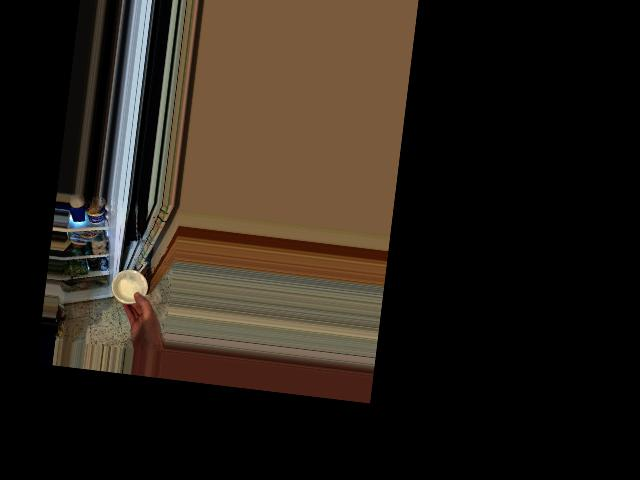cotage: (110, 267, 147, 303)
